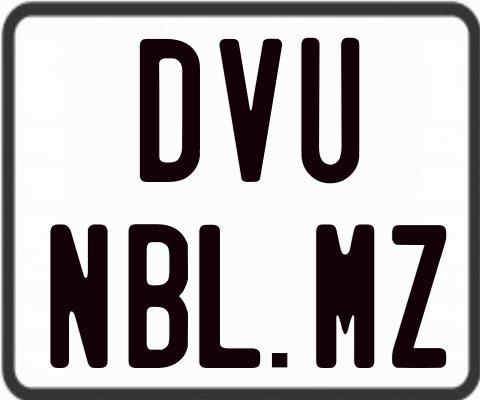B: (126, 224, 189, 370)
D: (138, 38, 198, 183)
L: (197, 225, 263, 370)
M: (315, 221, 374, 365)
N: (50, 223, 110, 370)
U: (298, 35, 362, 180)
V: (216, 38, 285, 186)
Z: (392, 224, 451, 371)
